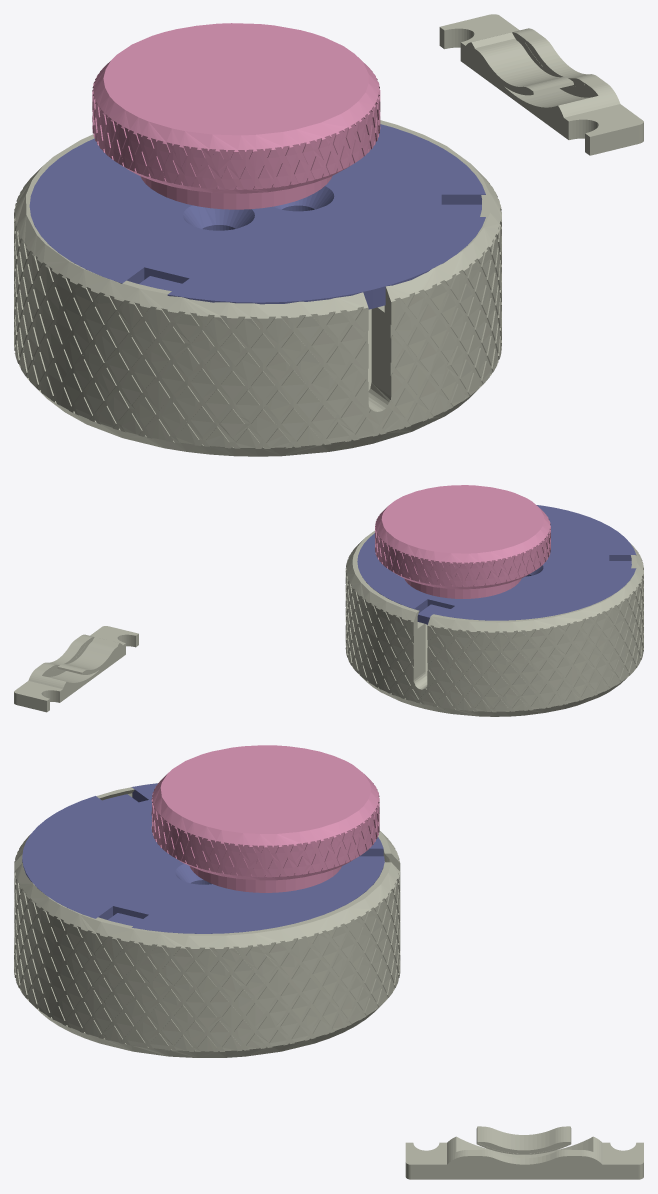
The model's file is asset.glb.
3 views of the same model, one above another, from view 1: azimuth 30°, elevation 25°; view 2: azimuth 150°, elevation 25°; view 3: azimuth 270°, elevation 25° (orthographic). The views are drawn at different scales.
Parts seen in each view (by area): view 1: Mesh_Mesh_head_geo.001_lambert2SG.001; view 2: Mesh_Mesh_head_geo.001_lambert2SG.001; view 3: Mesh_Mesh_head_geo.001_lambert2SG.001.
Boxes of the visible parts, left/top/right/bottom form: Mesh_Mesh_head_geo.001_lambert2SG.001: left=14, top=14, right=643, bottom=456; Mesh_Mesh_head_geo.001_lambert2SG.001: left=14, top=485, right=643, bottom=716; Mesh_Mesh_head_geo.001_lambert2SG.001: left=14, top=745, right=643, bottom=1179.
Bounding box in the file's own units: 0.128 × 0.042 × 0.1216.
